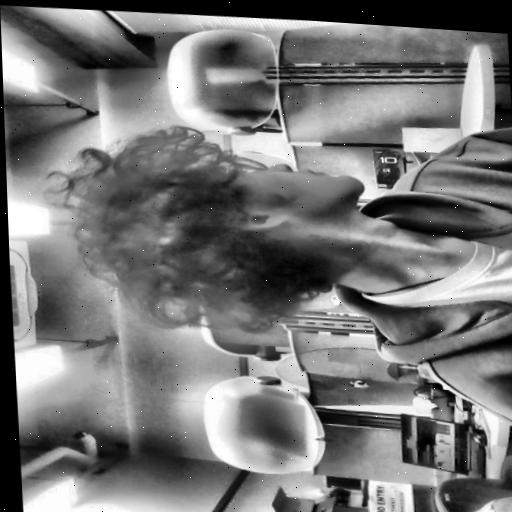Daifuku: (68, 136, 381, 350)
